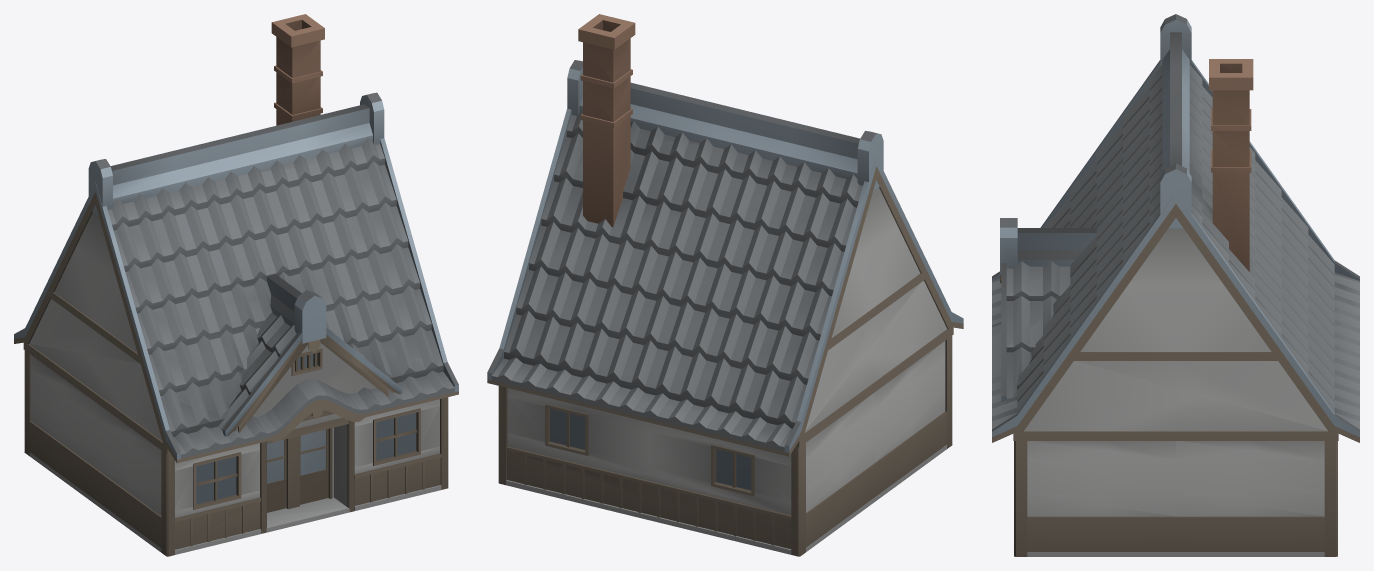
The model's file is bath.glb.
The picture shows the model from 3 angles, left to right: view 1: azimuth 30°, elevation 25°; view 2: azimuth 150°, elevation 25°; view 3: azimuth 270°, elevation 25°; orthographic projection. The views are drawn at different scales.
Visible parts, largest first — view 1: bath; view 2: bath; view 3: bath.
Boxes of the visible parts, x1,y1,x2,y2 form: bath: (14, 14, 458, 556); bath: (487, 14, 963, 556); bath: (992, 14, 1359, 556).
Size of the model in its own units: 8 by 11 by 8.
